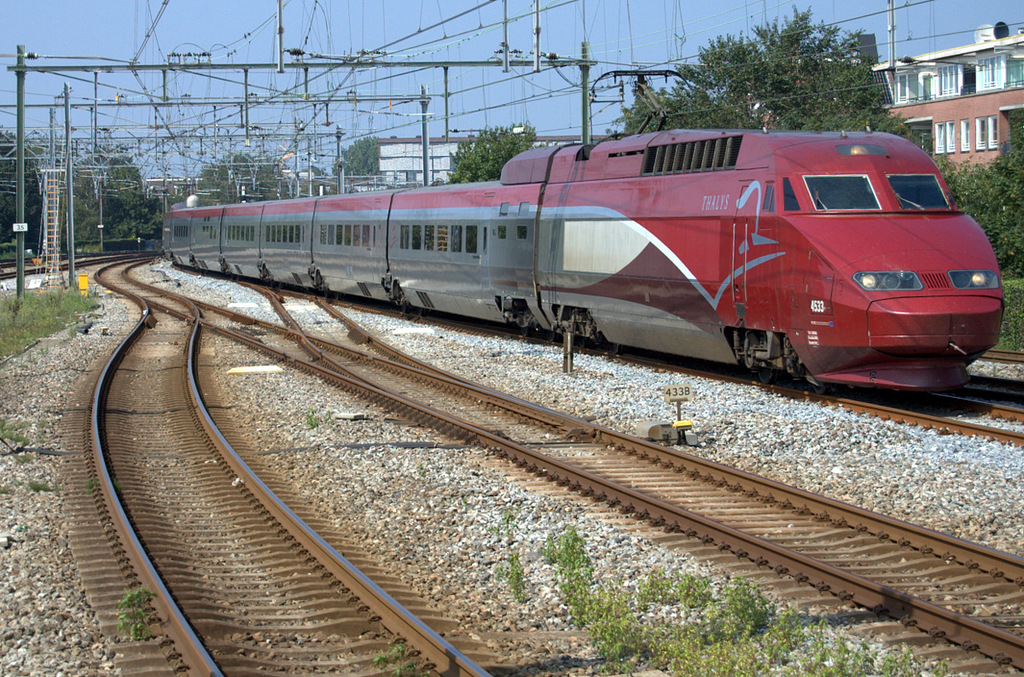train: (160, 72, 1004, 404)
